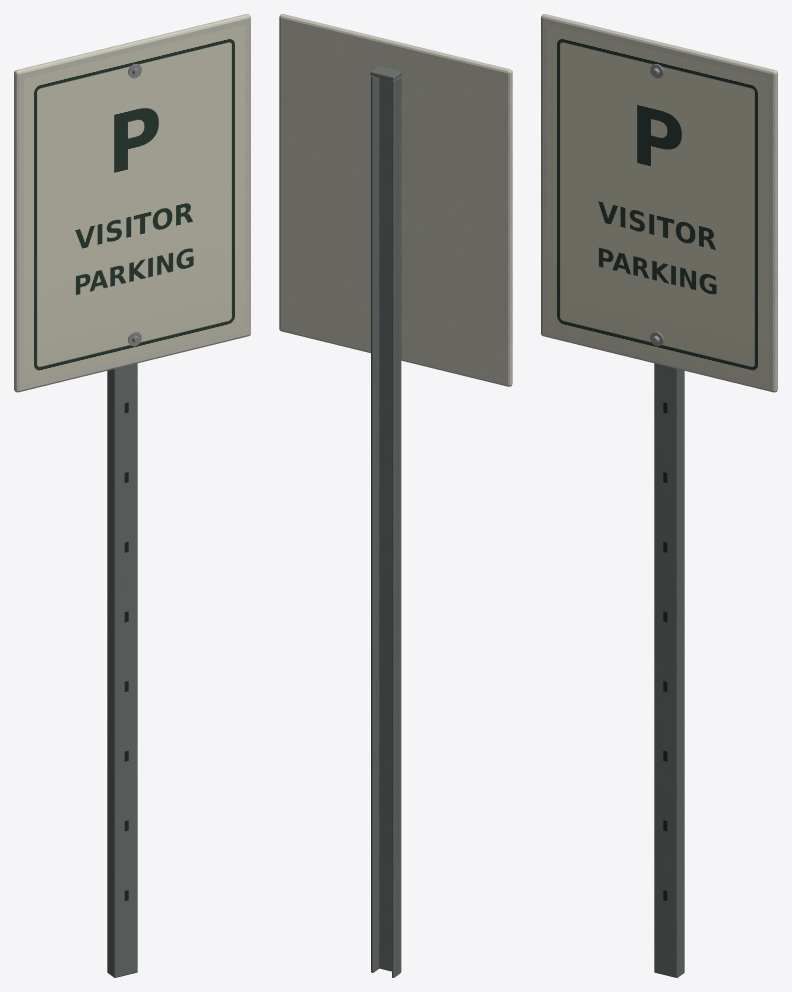
Rendered from SM_Arrival_VisitorSign_LOD1.fbx.
3 views of the same model, side by side, from view 1: azimuth 30°, elevation 25°; view 2: azimuth 150°, elevation 25°; view 3: azimuth 330°, elevation 25° (orthographic).
Visible parts, largest first — view 1: SM_Arrival_VisitorSign_LOD1; view 2: SM_Arrival_VisitorSign_LOD1; view 3: SM_Arrival_VisitorSign_LOD1.
Boxes of the visible parts, x1,y1,x2,y2 form: SM_Arrival_VisitorSign_LOD1: (14,14,250,977); SM_Arrival_VisitorSign_LOD1: (279,14,512,977); SM_Arrival_VisitorSign_LOD1: (541,14,777,977).
Size of the model in its own units: 0.46 by 0.066 by 1.75.
